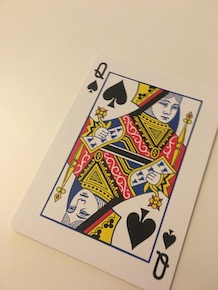QueenOfSpades: (6, 51, 216, 290)
